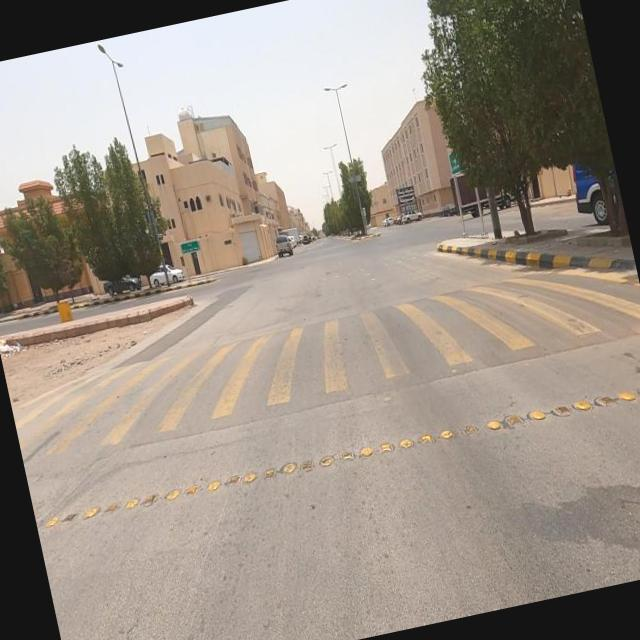debris: (0, 303, 50, 395)
